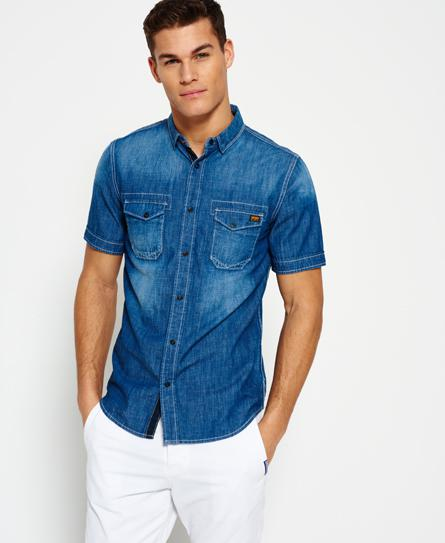teeshirt: (76, 104, 323, 445)
